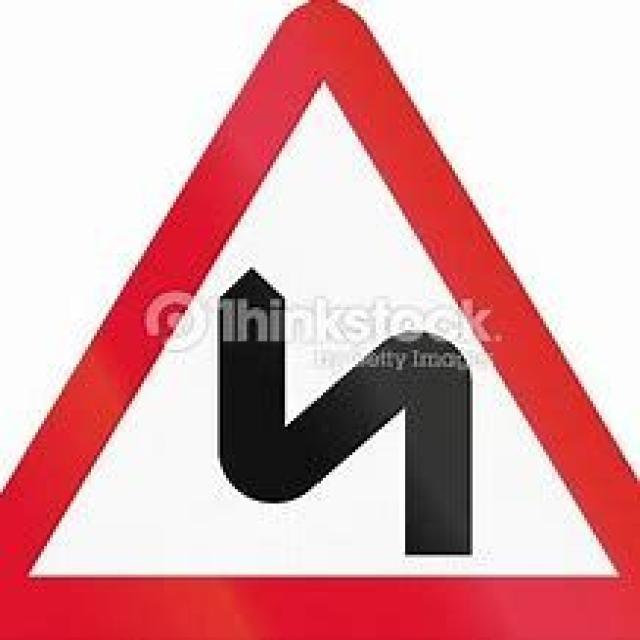left reverse bend: (27, 25, 610, 617)
